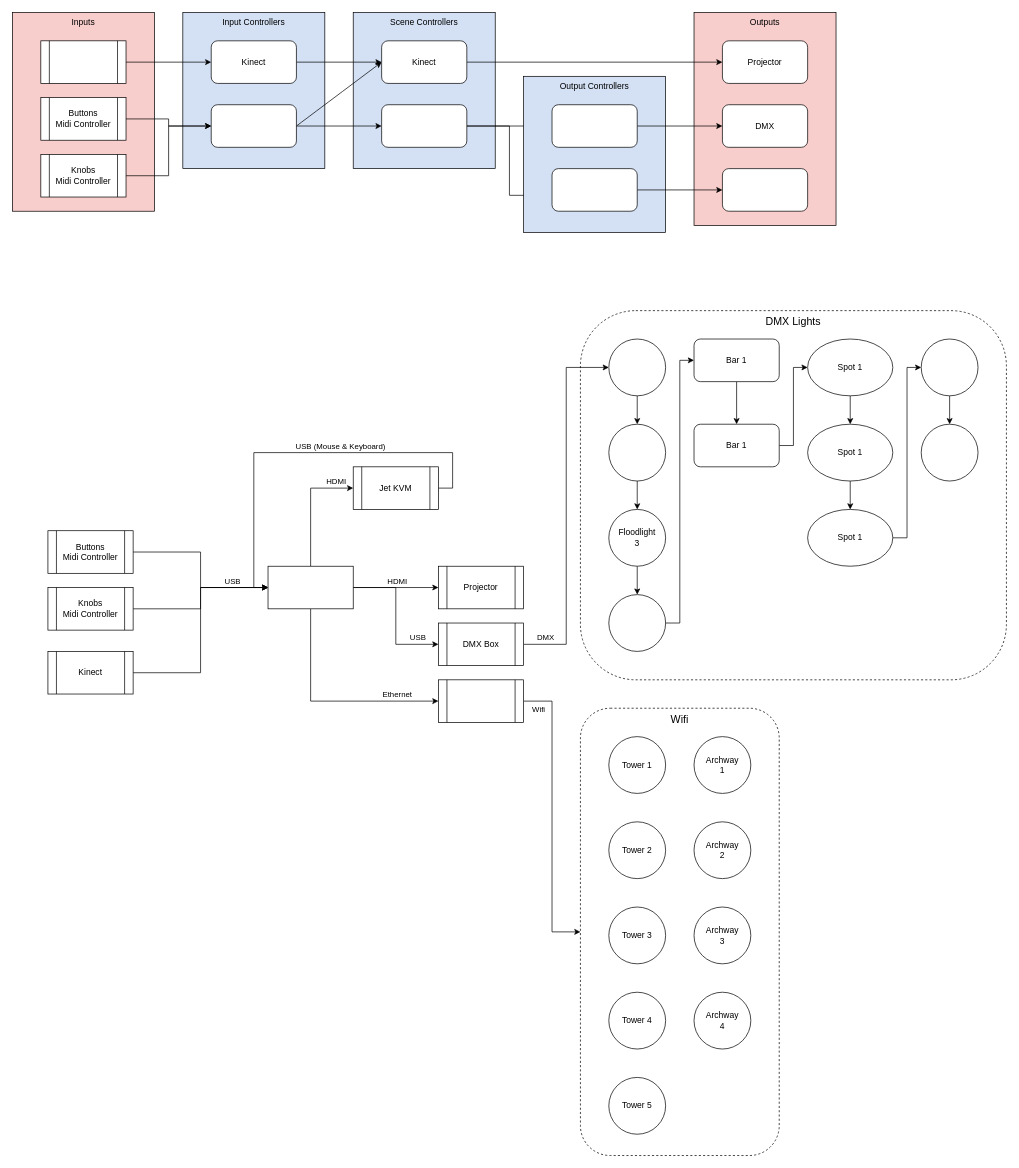
The diagram is 1019 pixels wide and 1168 high, and some of its shapes have lost their labels. The shapes that lost their labels are listed below. From the top down, each one's centre as x and y in pixels, then its label:
point 83,61: Kinect (Video / Depth)
point 253,125: Midi
point 424,125: LED
point 594,125: DMX Controller
point 594,189: LED Controller
point 765,189: WLED
point 637,367: Floodlight 1
point 949,367: UV 1
point 637,452: Floodlight 2
point 949,452: UV 2
point 310,587: PC
point 637,622: Floodlight 4
point 481,700: Wifi Router
